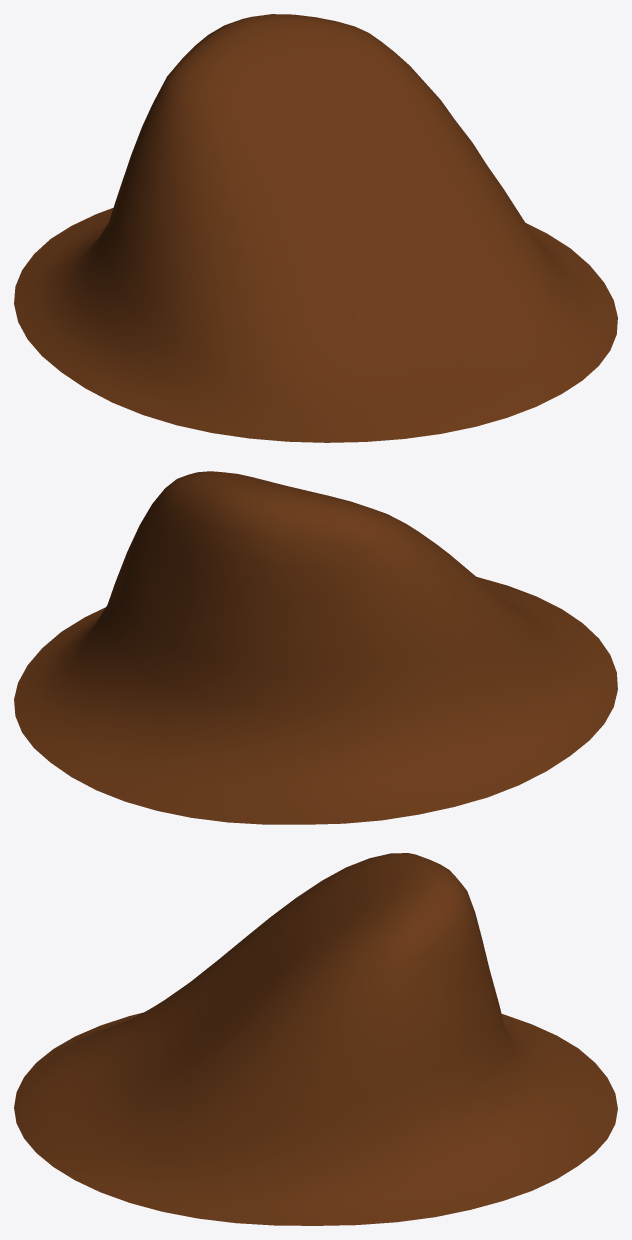
The model's file is ramp.fbx.
3 views of the same model, one above another, from view 1: azimuth 30°, elevation 25°; view 2: azimuth 150°, elevation 25°; view 3: azimuth 270°, elevation 25° (orthographic). The views are drawn at different scales.
Parts seen in each view (by area): view 1: RampaTeste; view 2: RampaTeste; view 3: RampaTeste.
Part boxes in pixels (x1=…): RampaTeste: x1=14, y1=14, x2=617, y2=442; RampaTeste: x1=14, y1=471, x2=617, y2=824; RampaTeste: x1=14, y1=853, x2=617, y2=1225.
Size of the model in its own units: 1117 by 518 by 1212.
